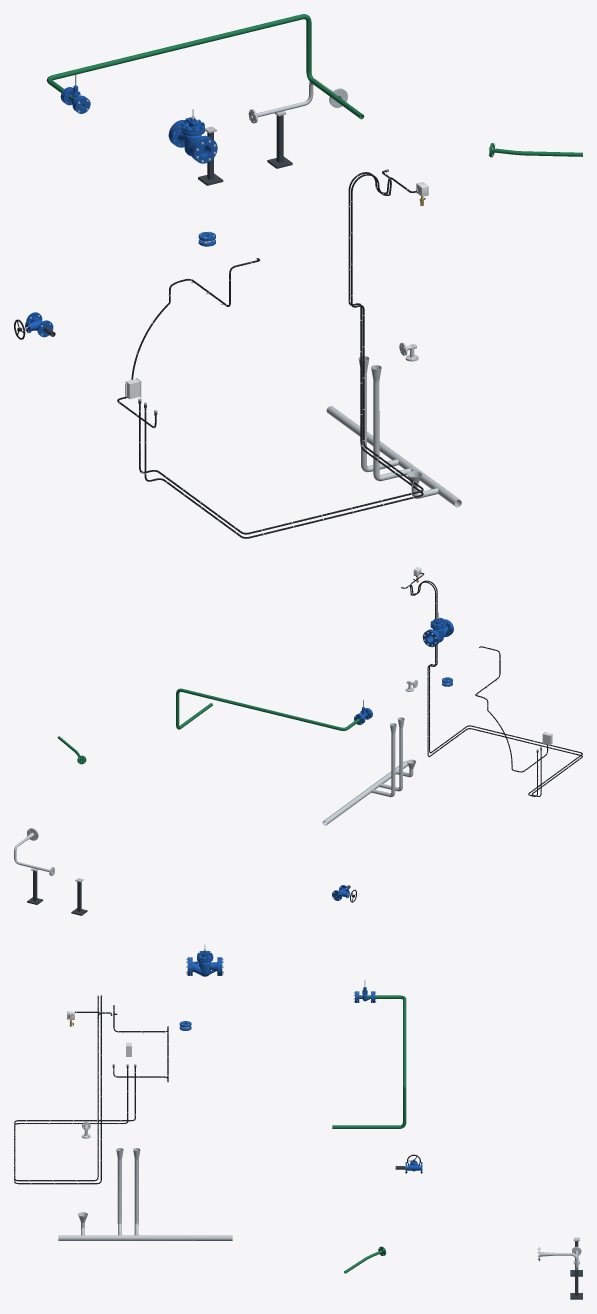
3 renders of one model, top to bottom at view 1: azimuth 30°, elevation 25°; view 2: azimuth 150°, elevation 25°; view 3: azimuth 270°, elevation 25°, orthographic. The views are drawn at different scales.
Visible parts, largest first — view 1: local_open_drains / steel, to_direct / green, wiring_pressure_switch_1 / black, wiring_pressure_switch_3 / black, gpz CAD solid 0, trap_support / dark, fv_to_trap_gap / steel, wiring_high_level / black; view 2: local_open_drains / steel, to_direct / green, wiring_pressure_switch_1 / black, wiring_pressure_switch_3 / black; view 3: local_open_drains / steel, wiring_pressure_switch_3 / black, to_direct / green, wiring_pressure_switch_1 / black, gpz CAD solid 0.
Boxes of the visible parts, x1,y1,x2,y2 form: local_open_drains / steel: (326,356,461,507); to_direct / green: (46,14,364,119); wiring_pressure_switch_1 / black: (144,172,423,538); wiring_pressure_switch_3 / black: (139,170,423,534); gpz CAD solid 0: (170,109,210,159); trap_support / dark: (198,115,292,185); fv_to_trap_gap / steel: (248,78,347,123); wiring_high_level / black: (117,258,259,427); local_open_drains / steel: (322,717,416,825); to_direct / green: (176,688,360,730); wiring_pressure_switch_1 / black: (410,572,582,796); wiring_pressure_switch_3 / black: (402,580,582,796); local_open_drains / steel: (58,1148,232,1240); wiring_pressure_switch_3 / black: (14,995,135,1181); to_direct / green: (332,995,406,1128); wiring_pressure_switch_1 / black: (14,995,128,1184); gpz CAD solid 0: (190,944,219,976).
Bounding box in the file's own units: 5.75 × 3.2 × 6.75.
